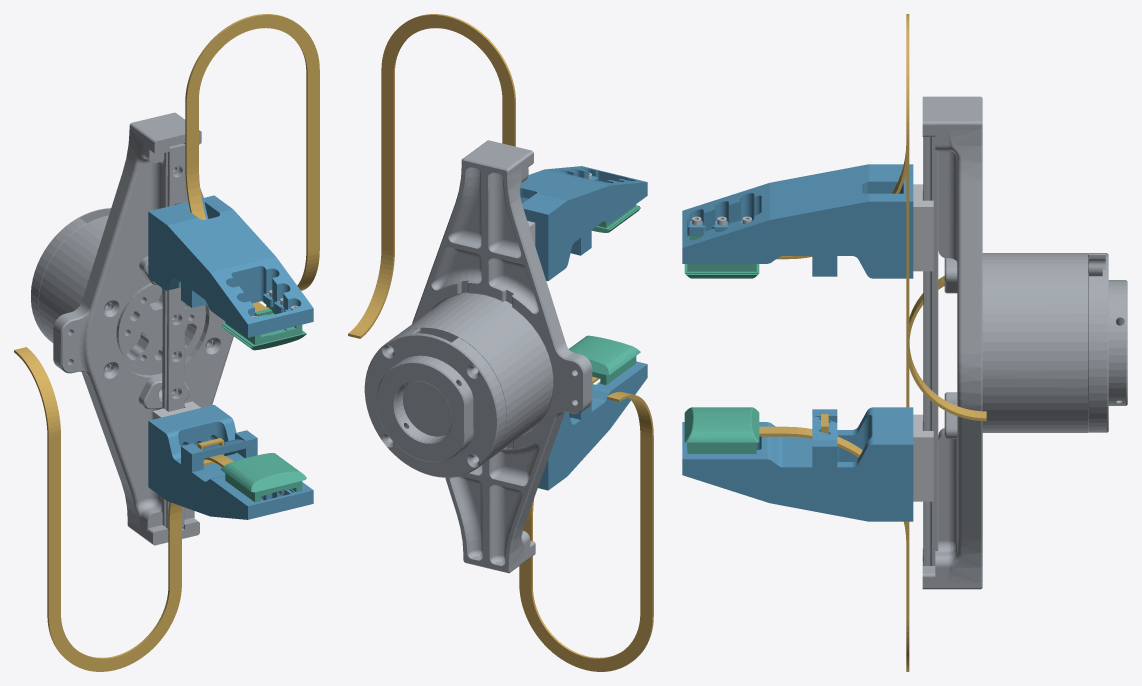
File: assembly_open50_cable_study.glb
3 renders of one model, left to right at view 1: azimuth 30°, elevation 25°; view 2: azimuth 150°, elevation 25°; view 3: azimuth 270°, elevation 25°, orthographic. The views are drawn at different scales.
Visible parts, largest first — view 1: original_actuator_and_transmission, replacement_finger_2, replacement_finger_1, service_loop_envelope_1, service_loop_envelope_2, M2324_1, M2324_2, moving_harness_envelope_2; view 2: original_actuator_and_transmission, replacement_finger_2, service_loop_envelope_2, service_loop_envelope_1, replacement_finger_1, M2324_1; view 3: original_actuator_and_transmission, replacement_finger_2, replacement_finger_1, M2324_1, service_loop_envelope_2, retained_carrier_2, retained_carrier_1, M2324_2, service_loop_envelope_1, moving_harness_envelope_1.
Boxes of the visible parts, x1,y1,x2,y2 form: original_actuator_and_transmission: [31, 112, 233, 545]; replacement_finger_2: [148, 195, 313, 337]; replacement_finger_1: [148, 405, 313, 519]; service_loop_envelope_1: [14, 347, 181, 671]; service_loop_envelope_2: [185, 14, 319, 290]; M2324_1: [221, 453, 306, 502]; M2324_2: [220, 305, 306, 350]; moving_harness_envelope_2: [185, 166, 265, 309]; original_actuator_and_transmission: [364, 140, 592, 573]; replacement_finger_2: [520, 166, 647, 280]; service_loop_envelope_2: [348, 14, 515, 338]; service_loop_envelope_1: [519, 391, 653, 671]; replacement_finger_1: [538, 361, 647, 490]; M2324_1: [569, 335, 640, 384]; original_actuator_and_transmission: [922, 96, 1127, 589]; replacement_finger_2: [682, 164, 913, 278]; replacement_finger_1: [682, 407, 913, 521]; M2324_1: [684, 407, 759, 453]; service_loop_envelope_2: [906, 14, 986, 421]; retained_carrier_2: [913, 184, 933, 271]; retained_carrier_1: [913, 414, 933, 501]; M2324_2: [684, 236, 759, 278]; service_loop_envelope_1: [906, 276, 944, 671]; moving_harness_envelope_1: [759, 426, 909, 543].
Bounding box in the file's own units: 0.1152 × 0.2516 × 0.1412.
